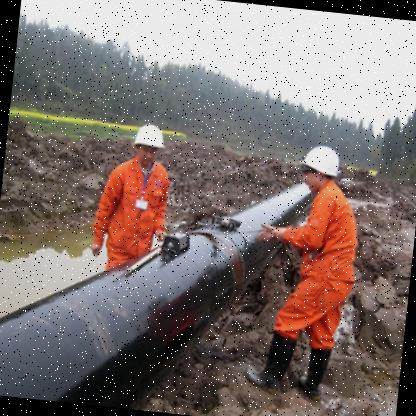capacete: (292, 141, 342, 198), (130, 121, 168, 168)
sem_colete_refletivo: (88, 158, 177, 262), (278, 181, 366, 286)
